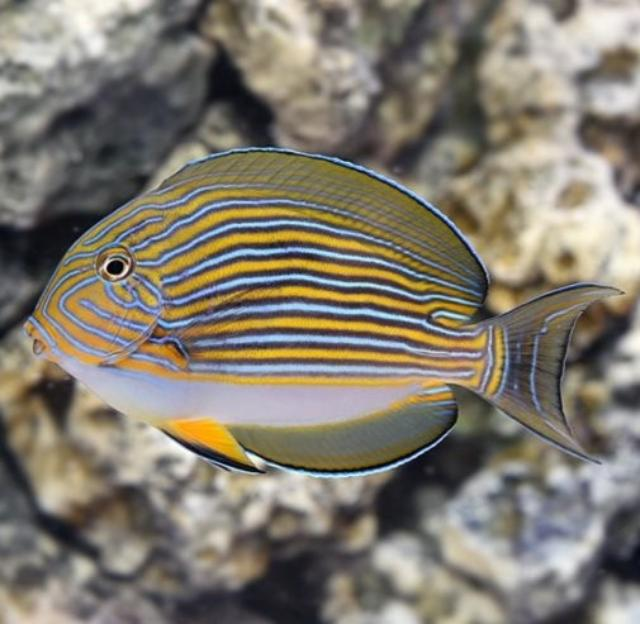Mulut: (5, 301, 71, 391)
Sirip Anal: (225, 388, 478, 491)
Sirip Dada: (147, 267, 305, 391)
Sirip Ekor: (468, 274, 634, 472)
Sirip Perut: (136, 404, 270, 488)
Sirip Punggung: (155, 140, 498, 322)
